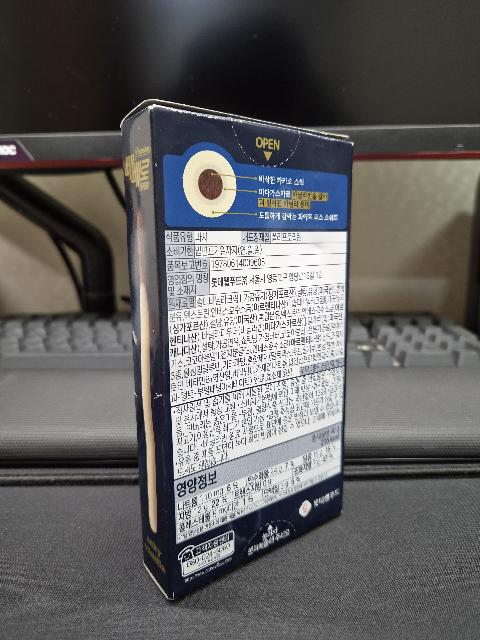pepero: (120, 99, 353, 600)
